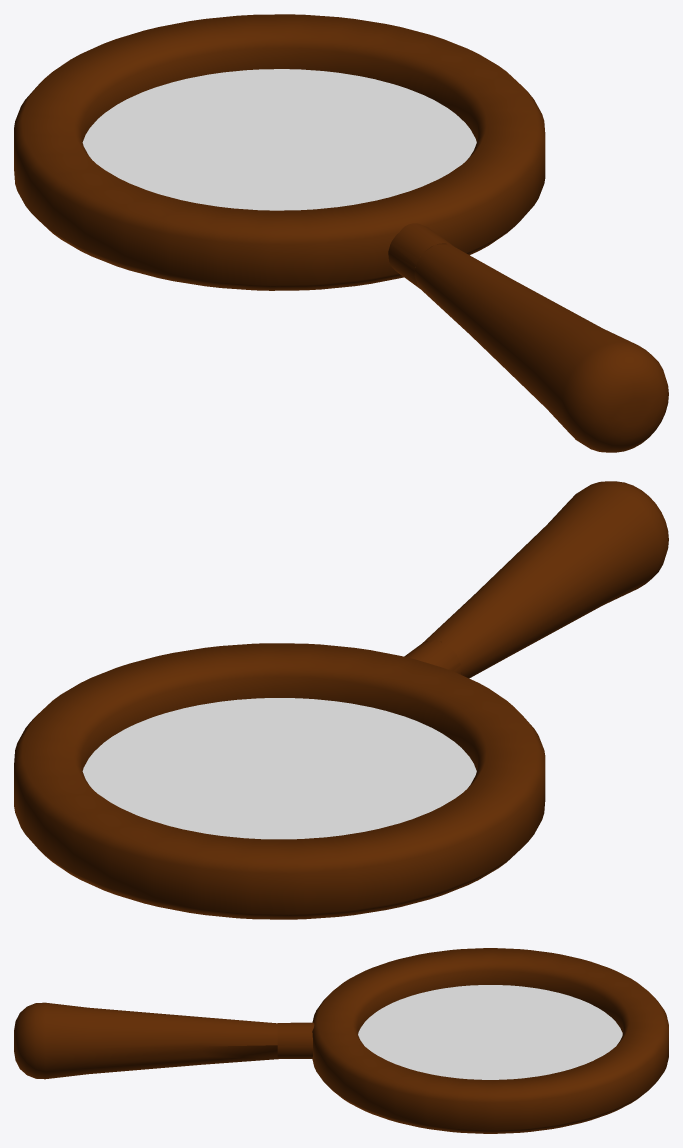
The model's file is lupa.fbx.
The picture shows the model from 3 angles, top to bottom: view 1: azimuth 30°, elevation 25°; view 2: azimuth 150°, elevation 25°; view 3: azimuth 270°, elevation 25°; orthographic projection. The views are drawn at different scales.
Visible parts, largest first — view 1: Okrąg, Prostokąt, Walec; view 2: Okrąg, Prostokąt, Walec; view 3: Okrąg, Prostokąt, Walec.
Boxes of the visible parts, bbox=[...] form: Okrąg: bbox=[14, 14, 545, 290]; Prostokąt: bbox=[82, 69, 476, 210]; Walec: bbox=[388, 223, 668, 452]; Okrąg: bbox=[14, 643, 545, 919]; Prostokąt: bbox=[82, 698, 476, 839]; Walec: bbox=[404, 481, 668, 678]; Okrąg: bbox=[312, 948, 668, 1133]; Prostokąt: bbox=[358, 985, 622, 1079]; Walec: bbox=[14, 1002, 314, 1079].
Size of the model in its own units: 508 by 109 by 932.
